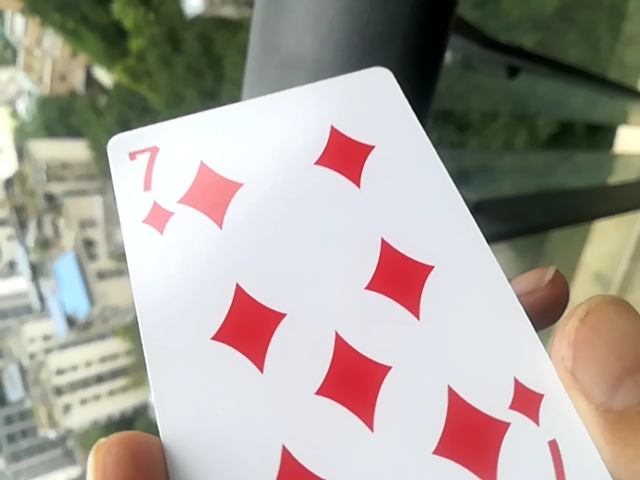fk 7: (100, 66, 600, 476)
